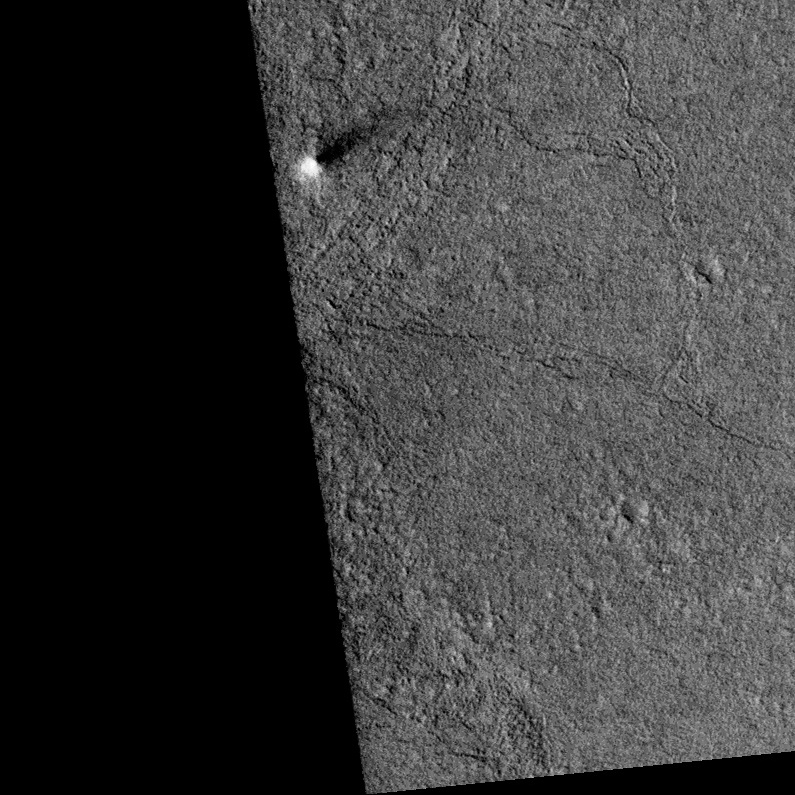dust_devil: (295, 115, 388, 182)
